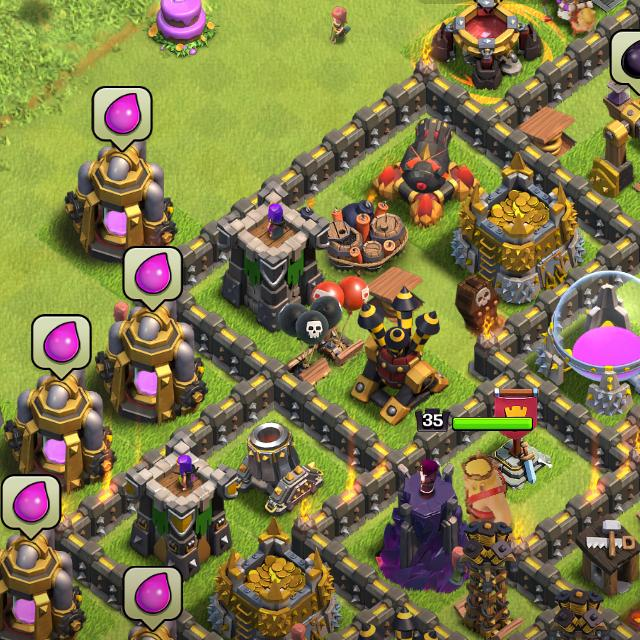Elixir: (89, 85, 155, 154), (31, 314, 94, 386), (0, 474, 62, 542), (122, 566, 184, 634), (122, 245, 184, 312)
ElixirNegro: (610, 29, 640, 101)
